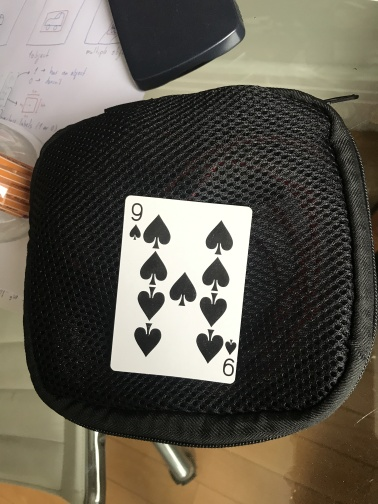nine: (109, 195, 254, 385)
